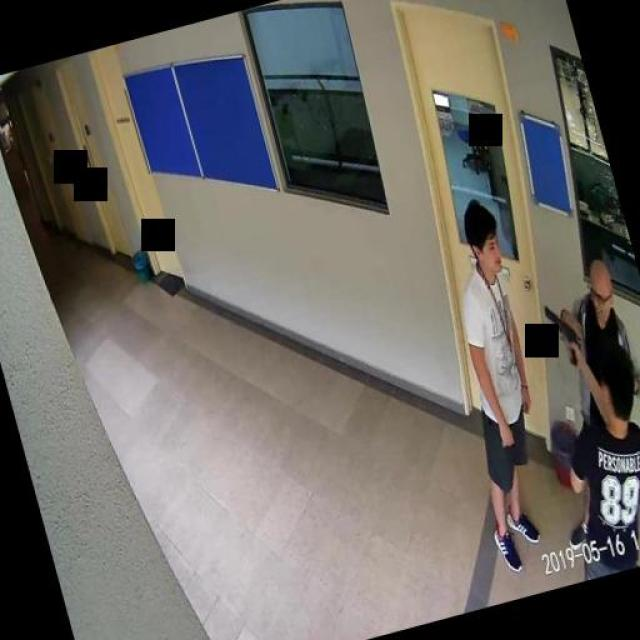gun: (540, 300, 582, 370)
